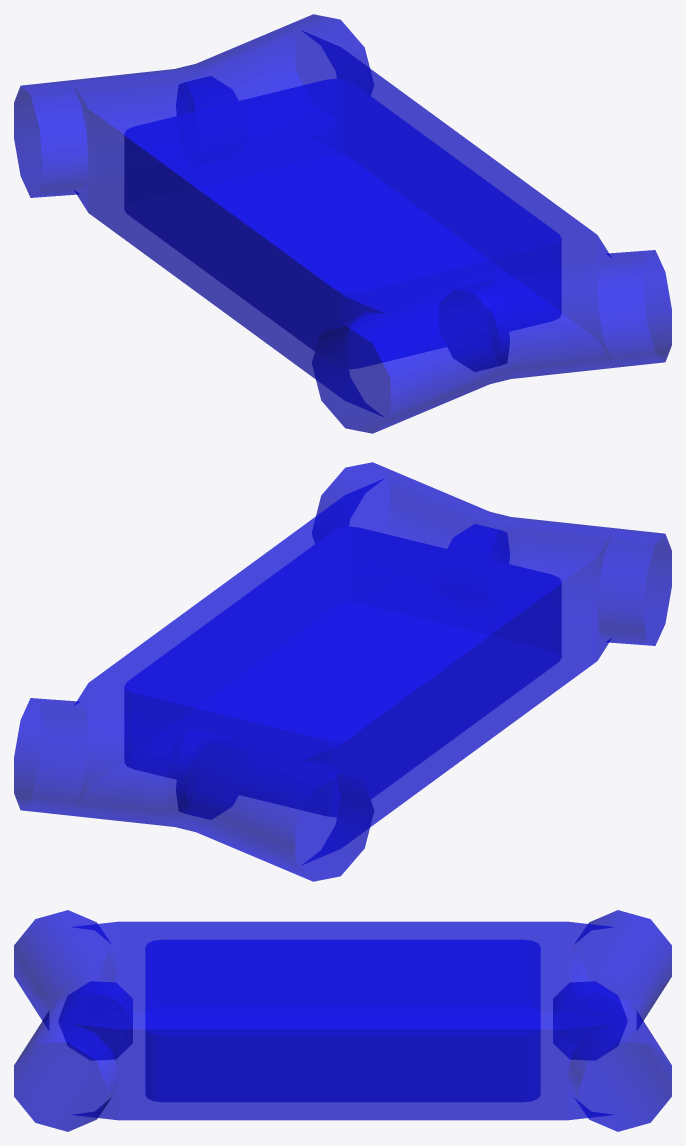
File: soft_body_v2_simplified.obj
3 renders of one model, top to bottom at view 1: azimuth 30°, elevation 25°; view 2: azimuth 150°, elevation 25°; view 3: azimuth 270°, elevation 25°, orthographic. The views are drawn at different scales.
Parts seen in each view (by area): view 1: Solid1; view 2: Solid1; view 3: Solid1.
Boxes of the visible parts, box(x1,y1,x2,y2) form: Solid1: box(14, 14, 671, 433); Solid1: box(14, 462, 671, 881); Solid1: box(14, 910, 671, 1131).
Size of the model in its own units: 197 by 59.2 by 387.
